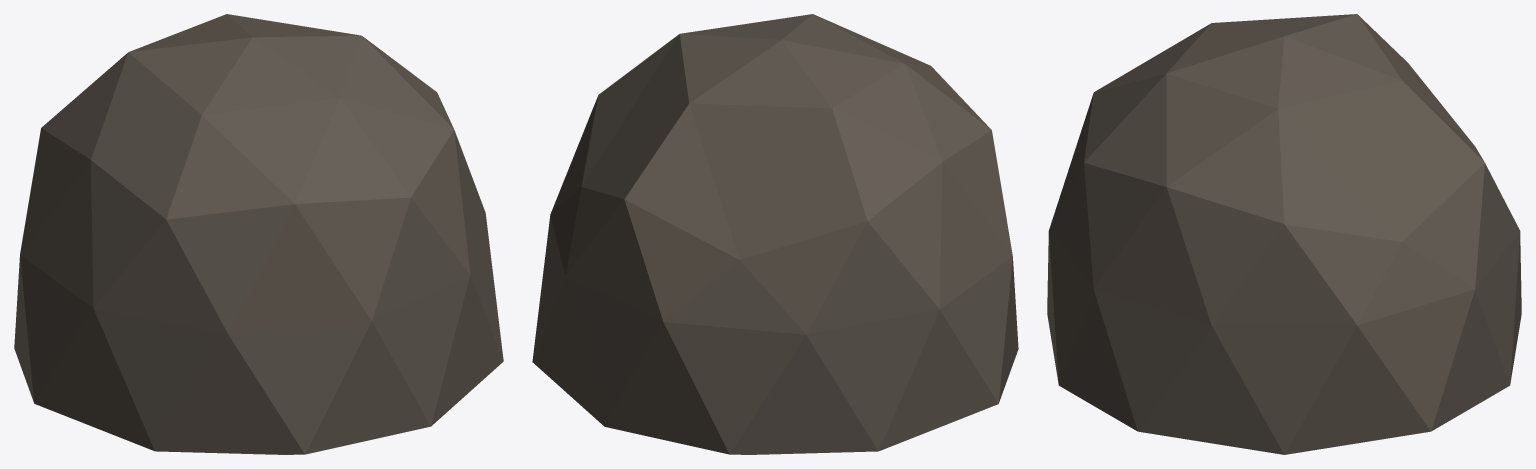
File: stone.obj
3 renders of one model, left to right at view 1: azimuth 30°, elevation 25°; view 2: azimuth 150°, elevation 25°; view 3: azimuth 270°, elevation 25°, orthographic.
Visible parts, largest first — view 1: Icosphere; view 2: Icosphere; view 3: Icosphere.
Boxes of the visible parts, left/top/right/bottom form: Icosphere: left=14, top=14, right=503, bottom=454; Icosphere: left=532, top=14, right=1018, bottom=454; Icosphere: left=1047, top=14, right=1521, bottom=454.
Bounding box in the file's own units: 4.06 × 3.39 × 3.95.
Materials: 1 (1 with a texture image).
